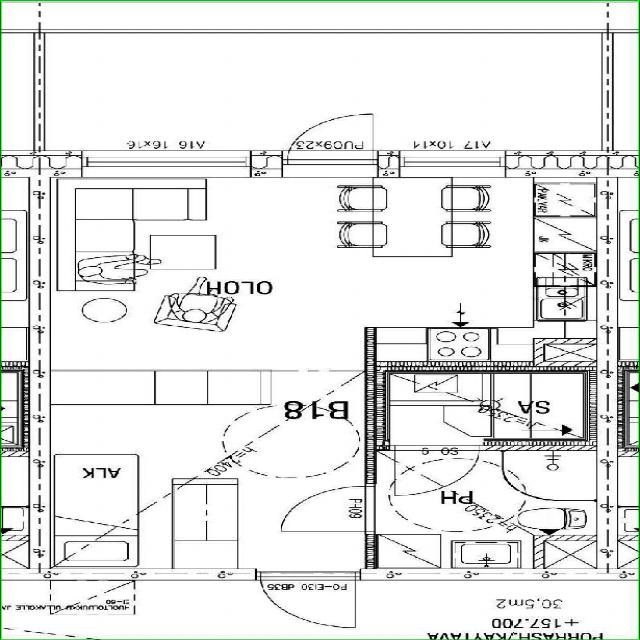door: (288, 106, 373, 177), (260, 568, 355, 630), (395, 439, 479, 495), (281, 486, 376, 531)
